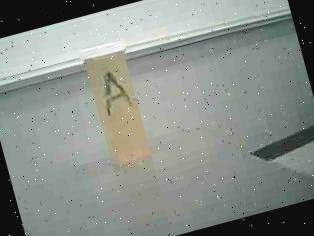Bottle A: (68, 28, 167, 182)
